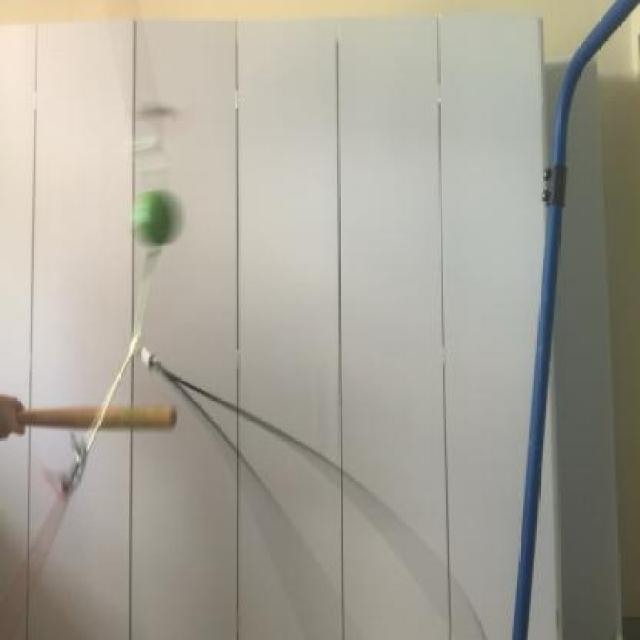baseball: (127, 175, 182, 252)
